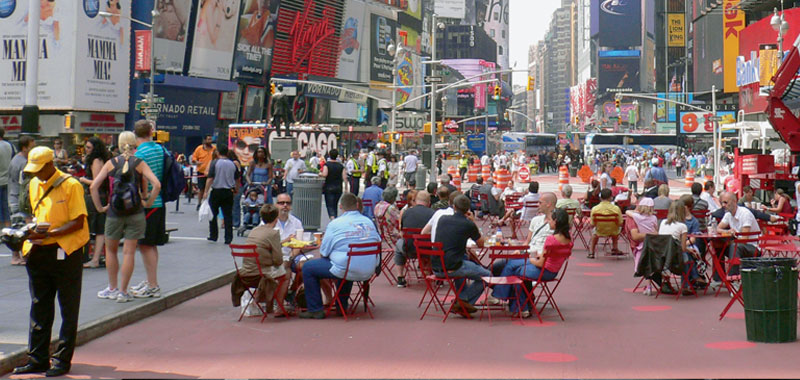Humano: (22, 147, 90, 373), (134, 116, 176, 303), (99, 127, 139, 303), (314, 191, 383, 293), (439, 197, 490, 309), (243, 197, 283, 304), (541, 204, 577, 314), (82, 137, 110, 272), (209, 141, 236, 244), (715, 189, 762, 240), (661, 199, 692, 270), (589, 187, 624, 247), (273, 191, 305, 247), (524, 186, 552, 247), (192, 130, 214, 204), (764, 184, 797, 226), (633, 197, 661, 243), (320, 147, 343, 201), (246, 146, 276, 187), (347, 148, 363, 193)
